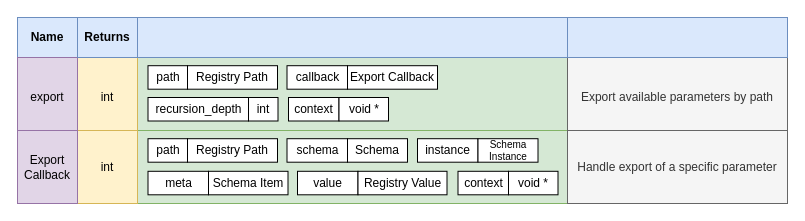
The diagram is 805 pixels wide and 221 high, and some of its shapes have lost their labels. The shapes that lost their labels are listed below. From the top down, each one's centre as x and y in pixels, then its label:
point (352, 37): Parameters
point (677, 37): Description
